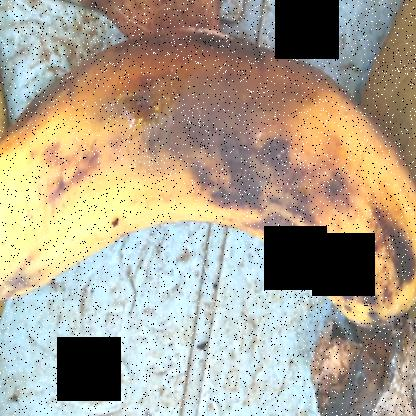rotten: (0, 16, 415, 326)
